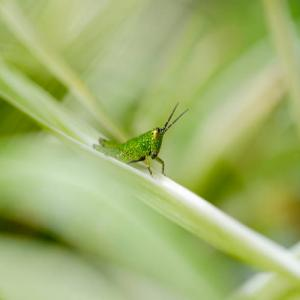locust: (83, 89, 192, 189)
